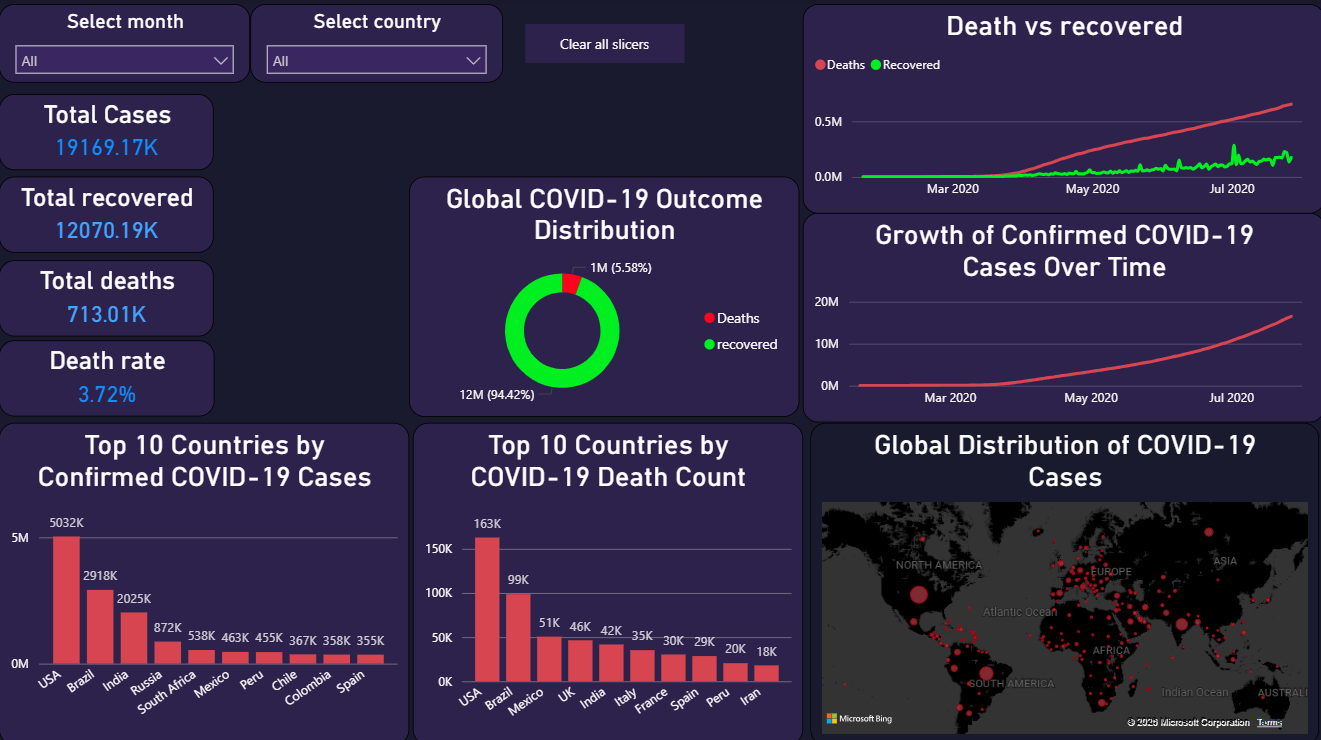

The dashboard page shown, as its layout file describes it:
{"tool":"powerbi","page":{"name":"Global_overview","canvas":[1280,720],"ordinal":0},"visuals":[{"type":"kpi","title":"Total deaths","fields":{"Indicator":["worldometer_data_cleaned.total_deaths_measure"],"TrendLine":["grouped_data_cleaned.Date"]},"box":[0,252.1,207.5,73.6],"z":0},{"type":"kpi","title":"Total Cases","fields":{"Indicator":["worldometer_data_cleaned.total_cases_measure"],"TrendLine":["grouped_data_cleaned.Date"]},"box":[0,91.7,207.5,73.6],"z":2000},{"type":"kpi","title":"Total recovered","fields":{"Indicator":["worldometer_data_cleaned.Total_recovered_measure"],"TrendLine":["grouped_data_cleaned.Date"]},"box":[0,171.3,207.5,73.6],"z":3000},{"type":"lineChart","title":"Growth of Confirmed COVID-19 Cases Over Time","fields":{"Y":["Sum(grouped_data_cleaned.Confirmed)"],"Category":["grouped_data_cleaned.Date"]},"box":[775.7,206.3,504.3,202.7],"z":4000},{"type":"lineChart","title":"Death vs recovered ","fields":{"Category":["grouped_data_cleaned.Date"],"Y":["Sum(grouped_data_cleaned.Deaths)","Sum(grouped_data_cleaned.New_Recovered)"]},"box":[775.7,4.8,504.3,202.7],"z":5000},{"type":"columnChart","title":"Top 10 Countries by Confirmed COVID-19 Cases","fields":{"Category":["worldometer_data_cleaned.Country_Region"],"Y":["worldometer_data_cleaned.total_cases_measure"]},"box":[0,409,395.7,311.3],"z":6000},{"type":"columnChart","title":"Top 10 Countries by COVID-19 Death Count","fields":{"Category":["worldometer_data_cleaned.Country_Region"],"Y":["worldometer_data_cleaned.total_deaths_measure"]},"box":[399.3,409,376.4,311.3],"z":7000},{"type":"map","title":"Global Distribution of COVID-19 Cases","fields":{"Category":["worldometer_data_cleaned.Country_Region"],"Size":["worldometer_data_cleaned.total_cases_measure"]},"box":[783,409,491,311.3],"z":8000},{"type":"donutChart","title":"Global COVID-19 Outcome Distribution","fields":{"Y":["Sum(worldometer_data_cleaned.Total_Deaths)","Sum(worldometer_data_cleaned.Total_Recovered)"]},"box":[395.7,171.3,376.4,231.6],"z":9000},{"type":"slicer","title":"Select country","fields":{"Values":["worldometer_data_cleaned.Country_Region"]},"box":[242.5,4.8,243.7,76],"z":11000},{"type":"slicer","title":"Select month","fields":{"Values":["grouped_data_cleaned.Date.Variation.Date Hierarchy.Month"]},"box":[0,4.8,242.5,76],"z":12000},{"type":"card","title":"Death rate","fields":{"Values":["worldometer_data_cleaned.Death_rate"]},"box":[0,329.6,208,73.2],"z":12001},{"type":"actionButton","box":[507.9,24.1,153.2,37.4],"z":12002}]}

Visuals, with their boxes in screenshot pixels (x1, y1, x2, y2), scaled from the page's 1280x720 canvas onto the 1321x740 screenshot:
"Total deaths" kpi: 0/259/214/335
"Total Cases" kpi: 0/94/214/170
"Total recovered" kpi: 0/176/214/252
"Growth of Confirmed COVID-19 Cases Over Time" lineChart: 801/212/1320/420
"Death vs recovered " lineChart: 801/5/1320/213
"Top 10 Countries by Confirmed COVID-19 Cases" columnChart: 0/420/408/739
"Top 10 Countries by COVID-19 Death Count" columnChart: 412/420/801/739
"Global Distribution of COVID-19 Cases" map: 808/420/1315/739
"Global COVID-19 Outcome Distribution" donutChart: 408/176/797/414
"Select country" slicer: 250/5/502/83
"Select month" slicer: 0/5/250/83
"Death rate" card: 0/339/215/414
actionButton: 524/25/682/63
